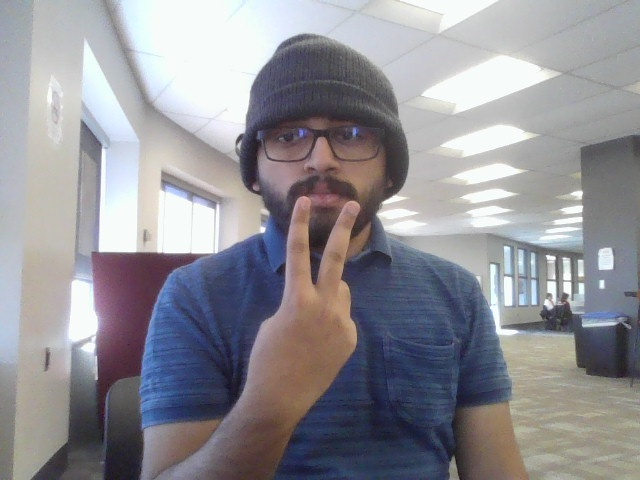start: (243, 191, 368, 419)
